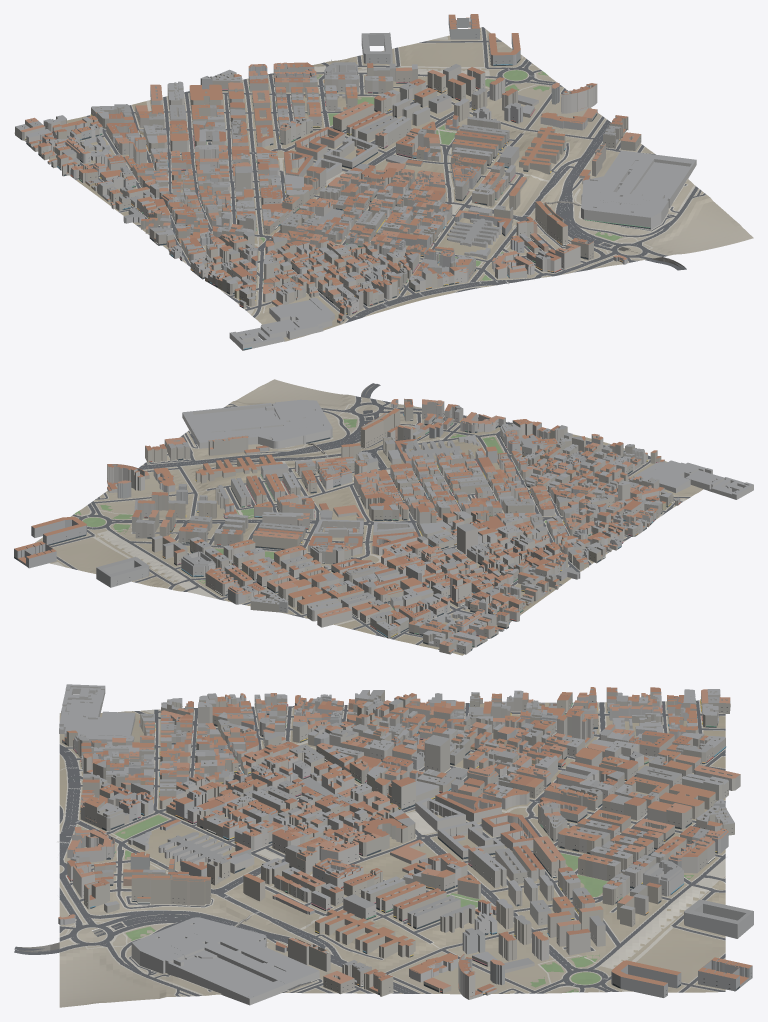
3 views of the same model, one above another, from view 1: azimuth 30°, elevation 25°; view 2: azimuth 150°, elevation 25°; view 3: azimuth 270°, elevation 25° (orthographic). The views are drawn at different scales.
Parts seen in each view (by area): view 1: Walls, Roofs, Ground, Road, Sidewalk, Detail, Park; view 2: Walls, Roofs, Ground, Road, Sidewalk, Detail, Park; view 3: Walls, Roofs, Ground, Road, Sidewalk, Detail, Park.
Part boxes in pixels (x1,y1,x2,y2): Walls: (15,15,696,350); Roofs: (15,14,696,344); Ground: (14,27,753,341); Road: (25,27,705,323); Sidewalk: (25,27,706,341); Detail: (20,31,650,350); Park: (260,70,622,280); Walls: (14,399,753,654); Roofs: (14,398,753,652); Ground: (36,379,703,655); Road: (35,396,690,649); Sidewalk: (36,396,690,649); Detail: (14,413,680,652); Park: (74,419,546,583); Walls: (58,686,753,1005); Roofs: (58,684,753,998); Ground: (59,700,725,1007); Road: (59,700,725,996); Sidewalk: (59,700,725,996); Detail: (64,694,751,995); Park: (81,749,693,992).
Size of the model in its own units: 1126 by 89.6 by 1111.
